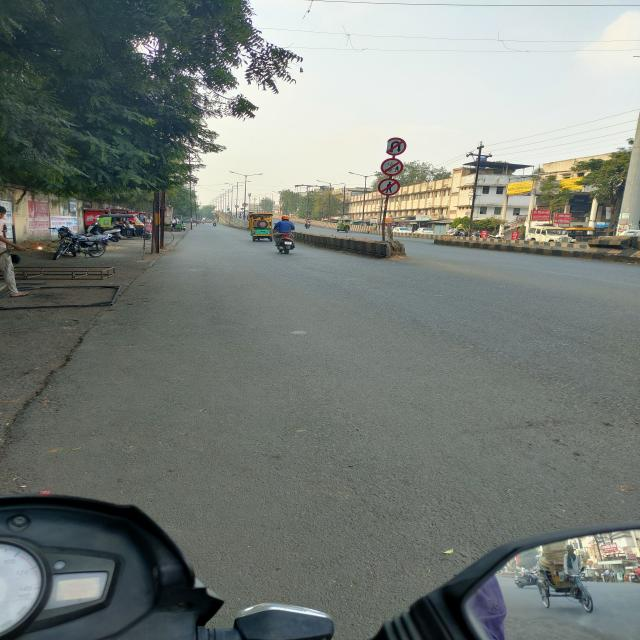CYCLE_PROHIBITED: (380, 158, 405, 175)
